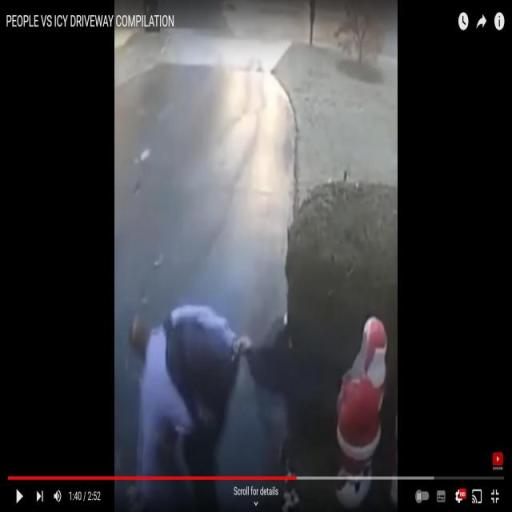Fall: (125, 301, 250, 512)
